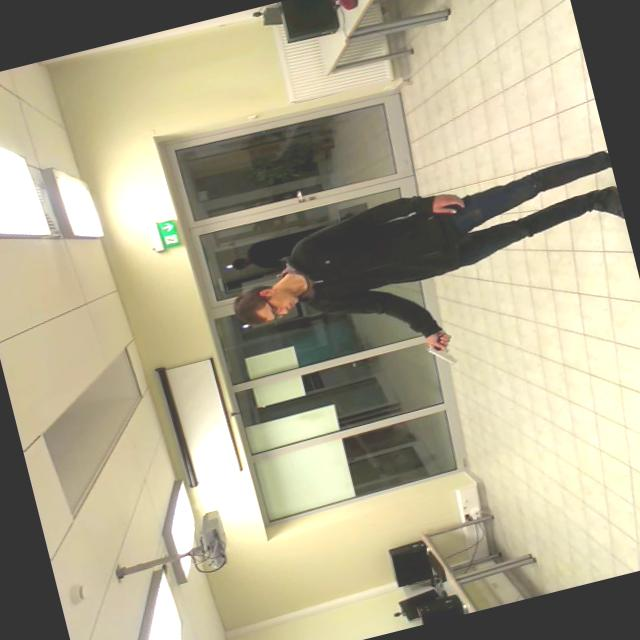handgun: (414, 321, 474, 378)
